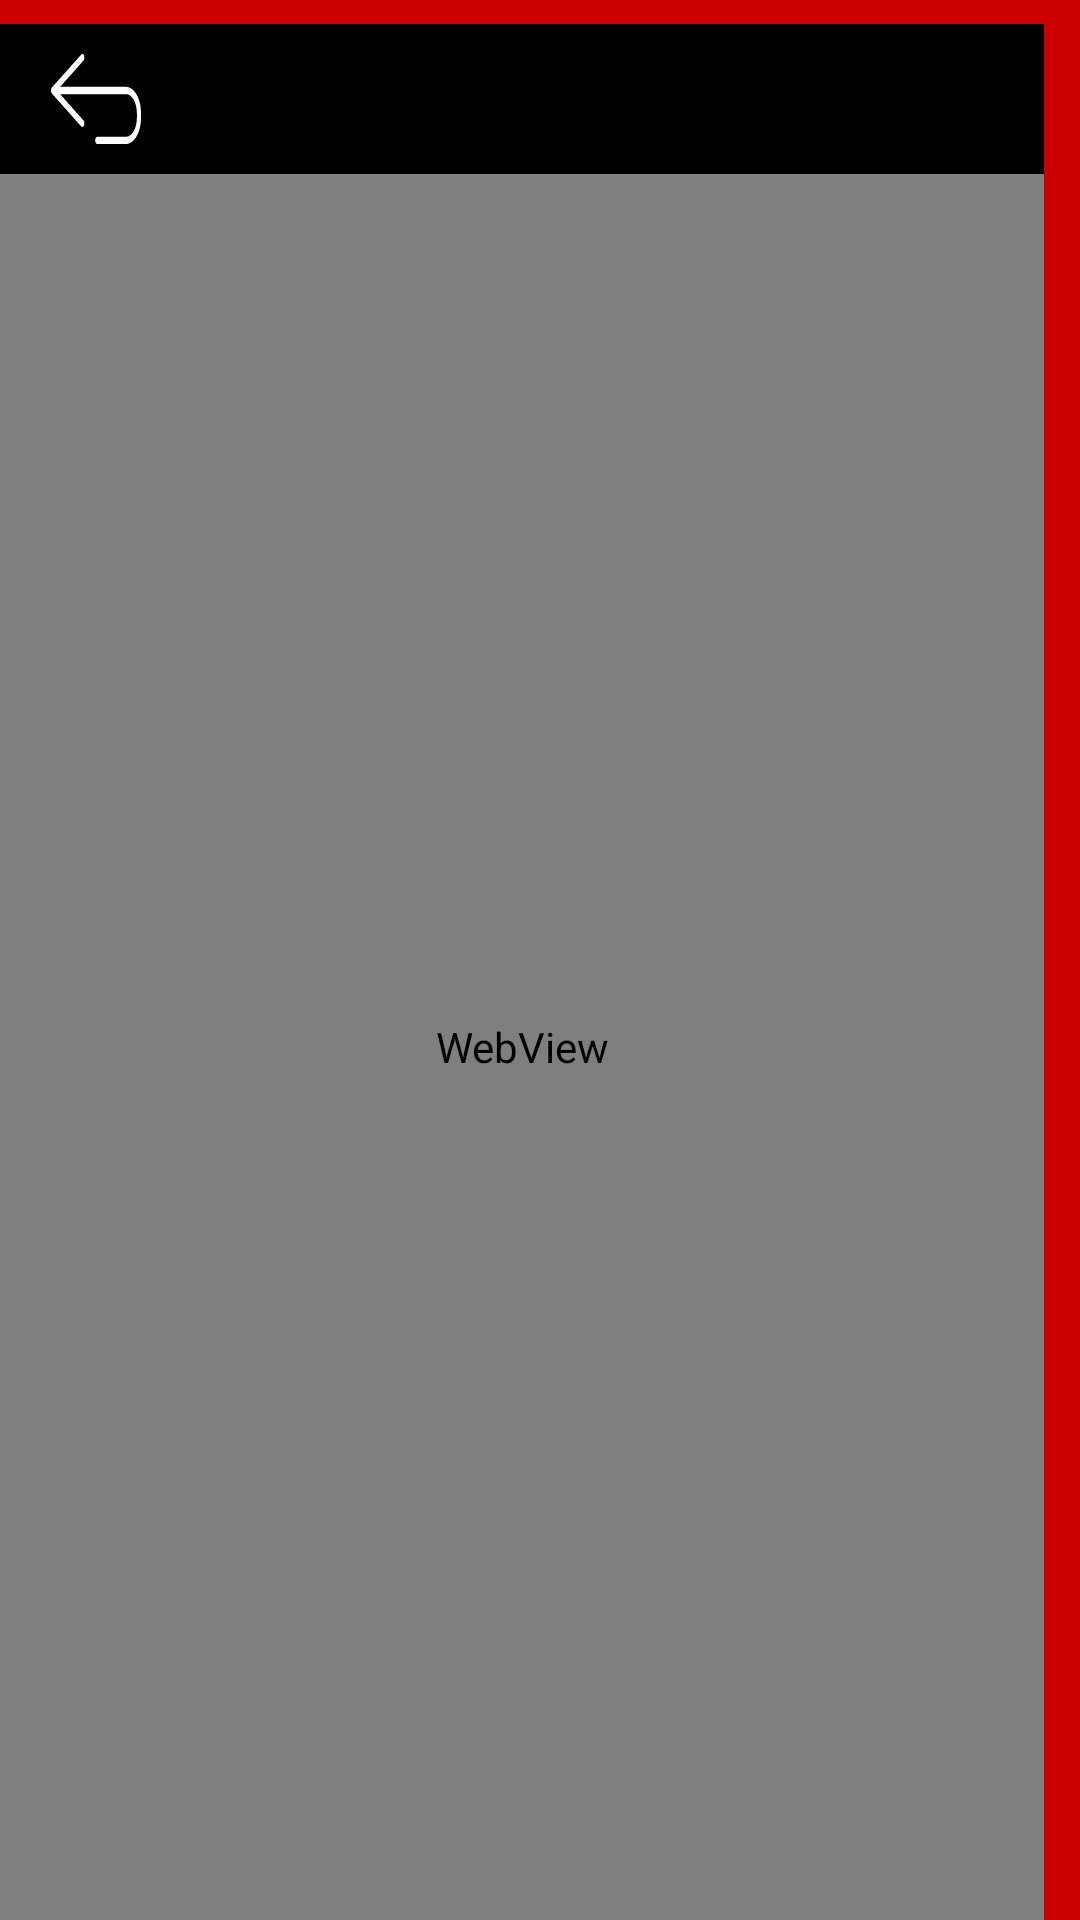

Icon click points for this 1080×1920 phone screenshot, format (x,y):
back: (96,99)
